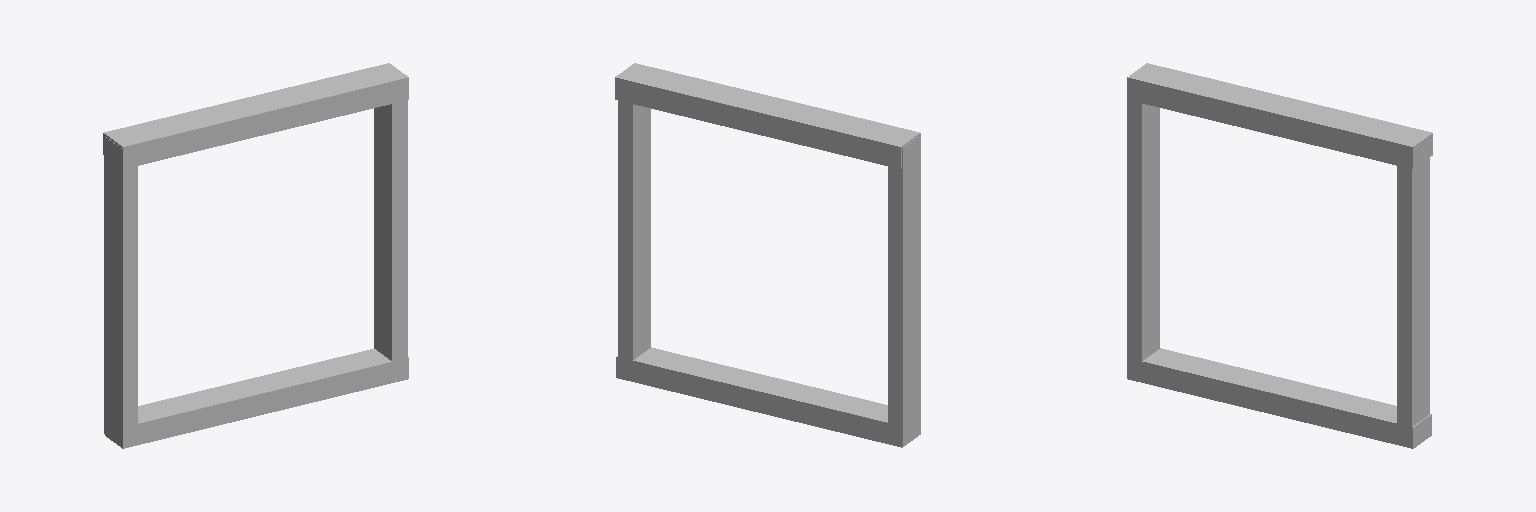
File: slab10k_border.obj
The picture shows the model from 3 angles: view 1: azimuth 30°, elevation 25°; view 2: azimuth 150°, elevation 25°; view 3: azimuth 330°, elevation 25°; orthographic projection.
Parts seen in each view (by area): view 1: pasted__pCube1 group, pCube1, pasted__pCube1 group1, pasted__pasted__pCube1 pasted__group1 group2; view 2: pasted__pCube1 group, pCube1, pasted__pCube1 group1, pasted__pasted__pCube1 pasted__group1 group2; view 3: pasted__pCube1 group, pCube1, pasted__pasted__pCube1 pasted__group1 group2, pasted__pCube1 group1.
Part boxes in pixels (left/top/right/bottom): pasted__pCube1 group: left=103, top=63, right=408, bottom=168; pCube1: left=105, top=349, right=408, bottom=448; pasted__pCube1 group1: left=104, top=136, right=137, bottom=446; pasted__pasted__pCube1 pasted__group1 group2: left=374, top=100, right=407, bottom=380; pasted__pCube1 group: left=615, top=63, right=920, bottom=168; pCube1: left=616, top=347, right=920, bottom=447; pasted__pCube1 group1: left=888, top=135, right=920, bottom=445; pasted__pasted__pCube1 pasted__group1 group2: left=618, top=101, right=650, bottom=379; pasted__pCube1 group: left=1127, top=63, right=1432, bottom=169; pCube1: left=1127, top=348, right=1431, bottom=448; pasted__pasted__pCube1 pasted__group1 group2: left=1397, top=158, right=1429, bottom=446; pasted__pCube1 group1: left=1127, top=100, right=1159, bottom=380.
Bounding box in the file's own units: 2.02 × 2.04 × 0.2418.